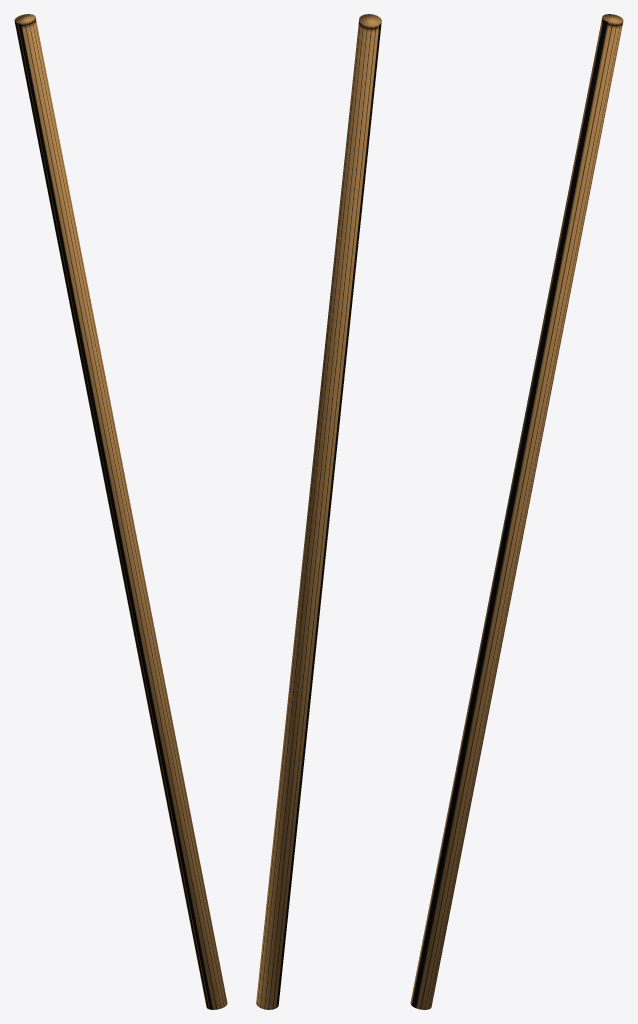
The model's file is bo_pickup.obj.
The picture shows the model from 3 angles, left to right: view 1: azimuth 90°, elevation 25°; view 2: azimuth 210°, elevation 25°; view 3: azimuth 270°, elevation 25°; orthographic projection. The views are drawn at different scales.
Visible parts, largest first — view 1: bo_pickup; view 2: bo_pickup; view 3: bo_pickup.
Boxes of the visible parts, x1,y1,x2,y2 form: bo_pickup: [14, 14, 227, 1009]; bo_pickup: [256, 14, 381, 1009]; bo_pickup: [410, 14, 623, 1009].
Size of the model in its own units: 1.78 by 90.26 by 17.62.
1 material, 1 textured.
